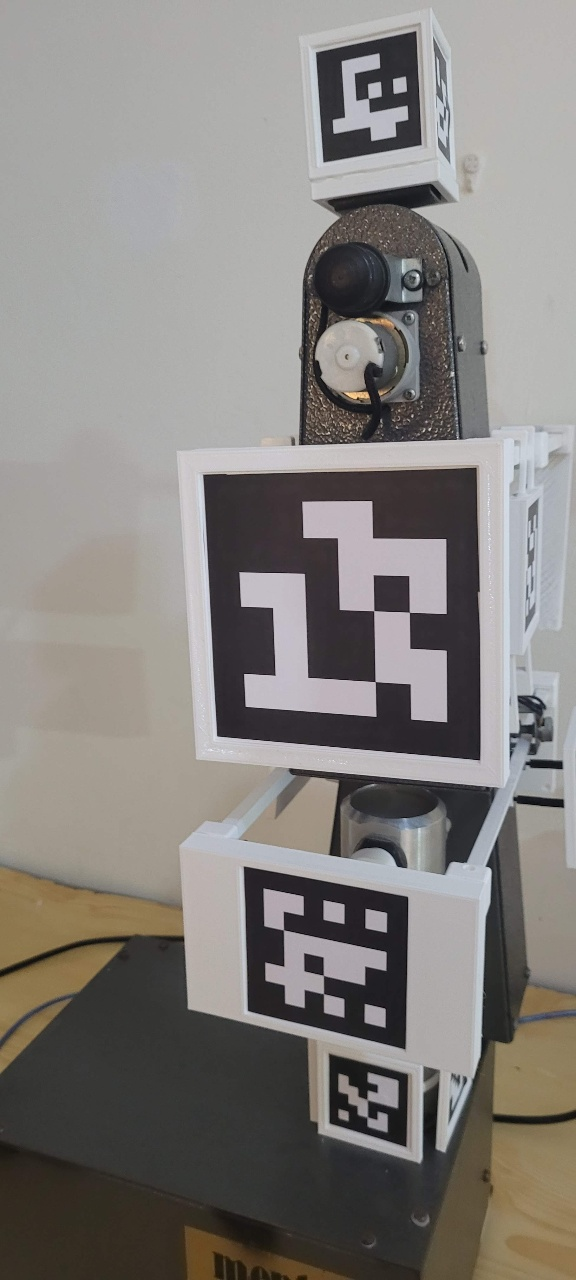Robot: (172, 5, 576, 1178)
